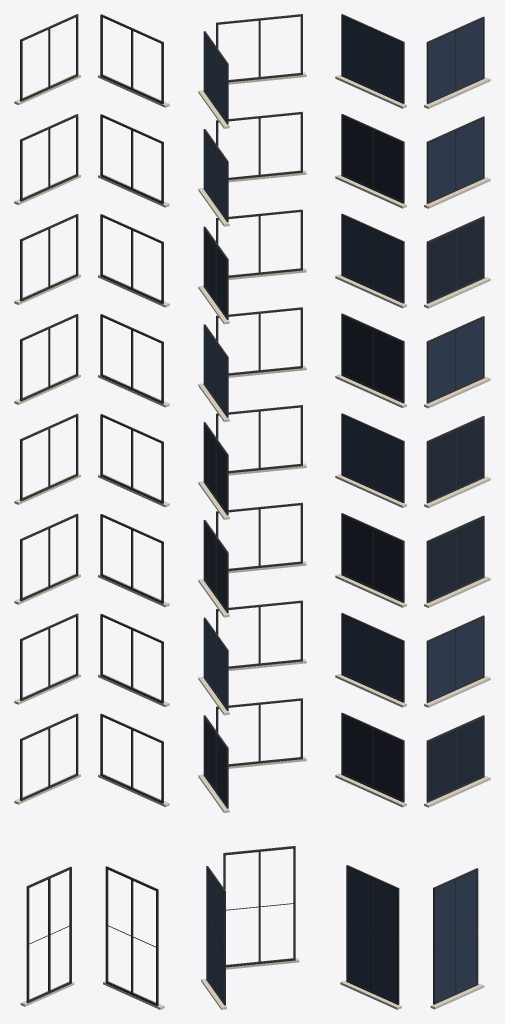
3 renders of one model, left to right at view 1: azimuth 90°, elevation 25°; view 2: azimuth 150°, elevation 25°; view 3: azimuth 270°, elevation 25°, orthographic. The views are drawn at different scales.
Visible parts, largest first — view 1: estructura_arquitectura; view 2: estructura_arquitectura, estructura_cristal; view 3: estructura_cristal, estructura_arquitectura.
Boxes of the visible parts, left/top/right/bottom form: estructura_arquitectura: left=14, top=14, right=169, bottom=1009; estructura_arquitectura: left=198, top=14, right=306, bottom=1009; estructura_cristal: left=204, top=34, right=226, bottom=1001; estructura_cristal: left=343, top=17, right=482, bottom=1001; estructura_arquitectura: left=335, top=14, right=490, bottom=1009.
Bounding box in the file's own units: 2.02 × 28.26 × 4.11.
